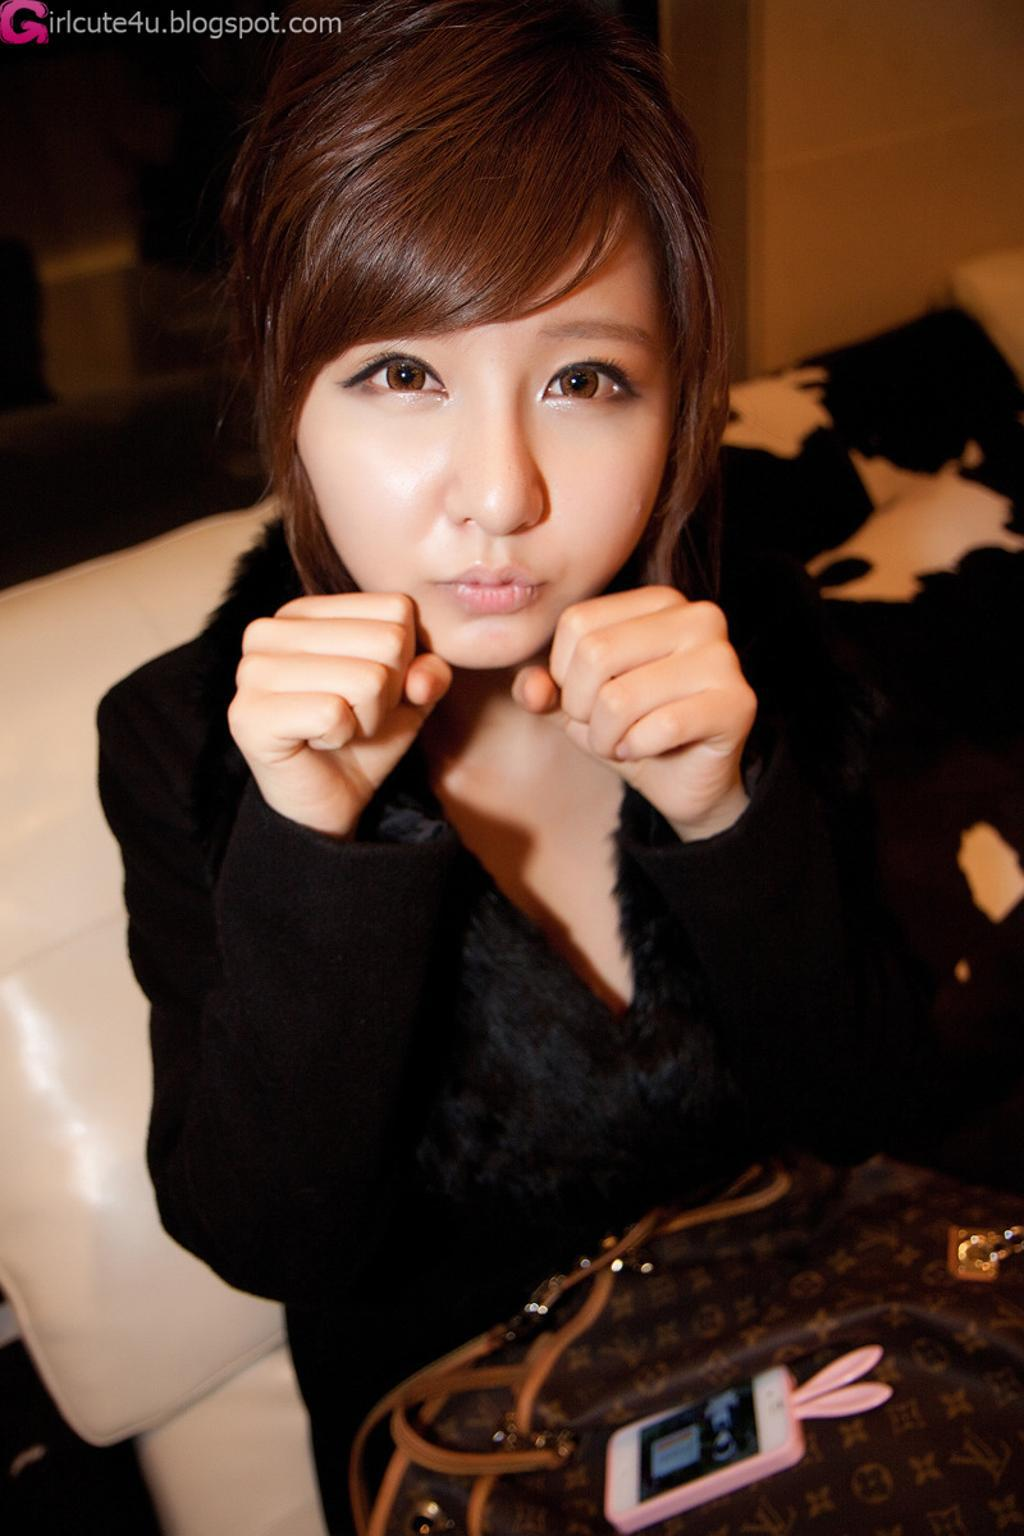face: (292, 160, 673, 670)
